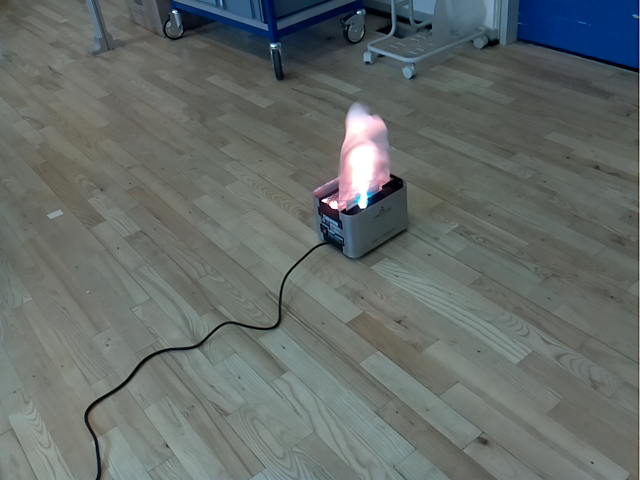fire: (336, 100, 391, 212)
